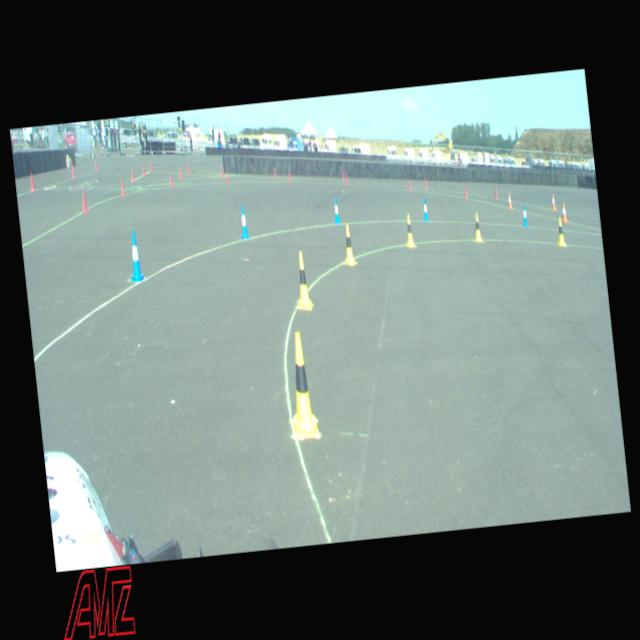blue_cone: (125, 230, 145, 282), (238, 205, 250, 239), (332, 197, 341, 223), (421, 198, 429, 221), (520, 204, 528, 226)
orange_cone: (560, 202, 568, 223), (550, 193, 556, 210), (507, 192, 512, 208)
unknown_cone: (80, 188, 88, 213), (119, 177, 125, 196), (29, 172, 35, 190), (168, 172, 173, 187), (463, 185, 468, 198), (493, 186, 498, 198), (70, 164, 74, 177), (130, 168, 134, 181), (225, 170, 229, 183), (408, 178, 412, 190), (423, 177, 427, 188), (148, 161, 152, 171), (179, 167, 182, 179), (220, 166, 223, 178), (288, 171, 291, 183), (94, 159, 97, 170), (142, 163, 145, 174), (187, 163, 190, 174), (345, 173, 348, 184), (341, 171, 344, 181), (274, 167, 276, 178)
yellow_cone: (283, 332, 319, 438), (292, 250, 314, 311), (340, 223, 356, 265), (403, 213, 415, 247), (472, 212, 482, 242), (555, 217, 565, 246)
